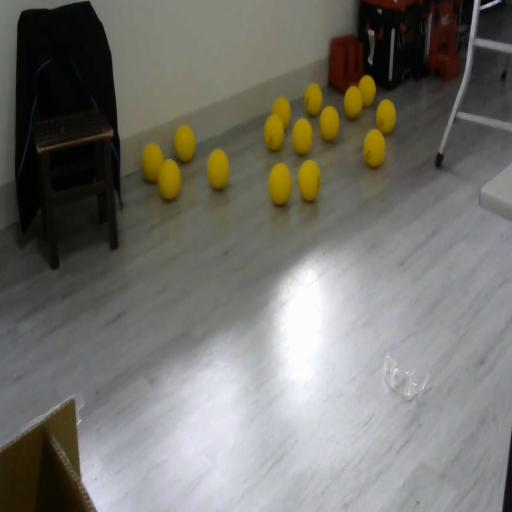FUEL: (297, 158, 322, 202), (268, 163, 292, 206), (206, 148, 230, 190), (157, 158, 181, 200), (362, 127, 386, 168), (141, 142, 164, 182), (173, 123, 196, 163), (291, 116, 313, 155), (263, 113, 285, 152), (319, 105, 340, 142), (343, 84, 363, 120), (376, 99, 396, 134), (304, 82, 322, 116)
